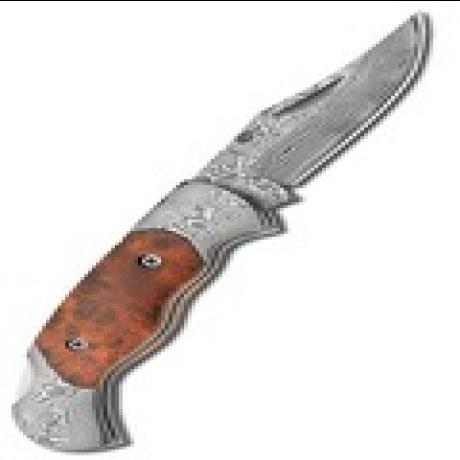weapon: (6, 8, 440, 452)
